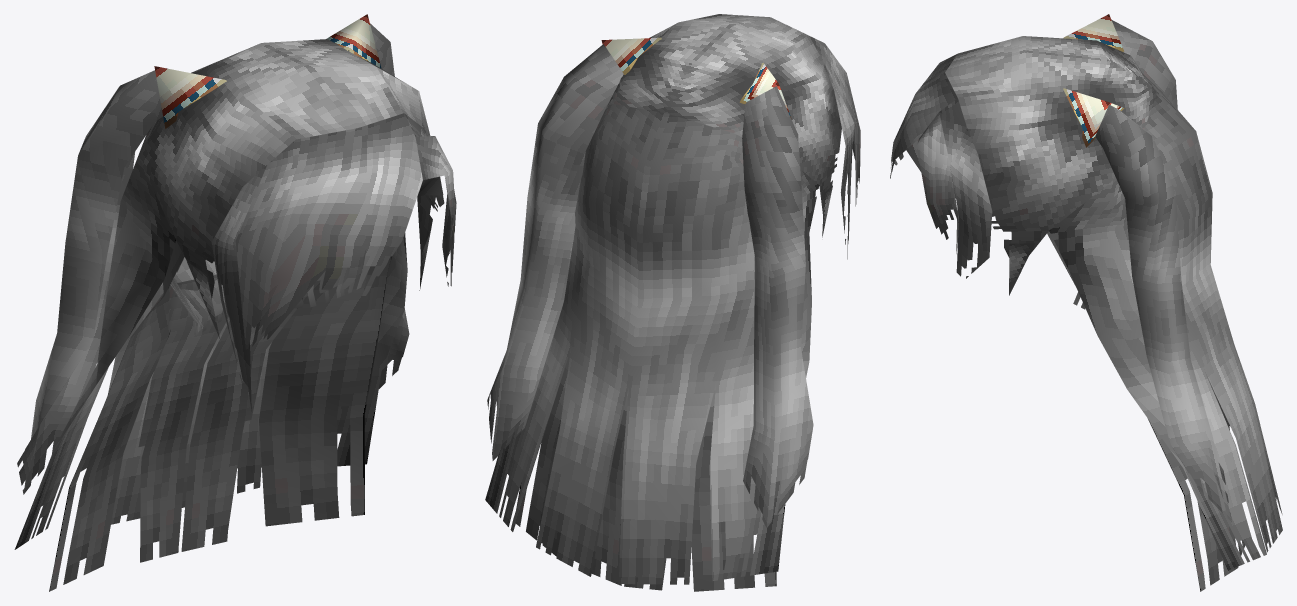
The model's file is f_hair014.obj.
3 views of the same model, side by side, from view 1: azimuth 30°, elevation 25°; view 2: azimuth 150°, elevation 25°; view 3: azimuth 270°, elevation 25° (orthographic). The views are drawn at different scales.
Visible parts, largest first — view 1: editpl_f-0000-1916, editpl_f-0000-1917; view 2: editpl_f-0000-1916, editpl_f-0000-1917; view 3: editpl_f-0000-1916, editpl_f-0000-1917.
Part boxes in pixels (x1,y1,x2,y2): editpl_f-0000-1916: (14,23,456,591); editpl_f-0000-1917: (154,14,381,128); editpl_f-0000-1916: (485,14,860,591); editpl_f-0000-1917: (601,37,791,119); editpl_f-0000-1916: (890,19,1282,591); editpl_f-0000-1917: (1063,14,1124,147).
Size of the model in its own units: 28.25 by 40.97 by 29.74.
